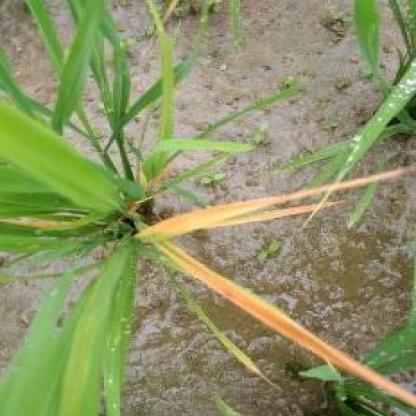Tungro: (163, 243, 415, 409), (127, 166, 398, 244)
